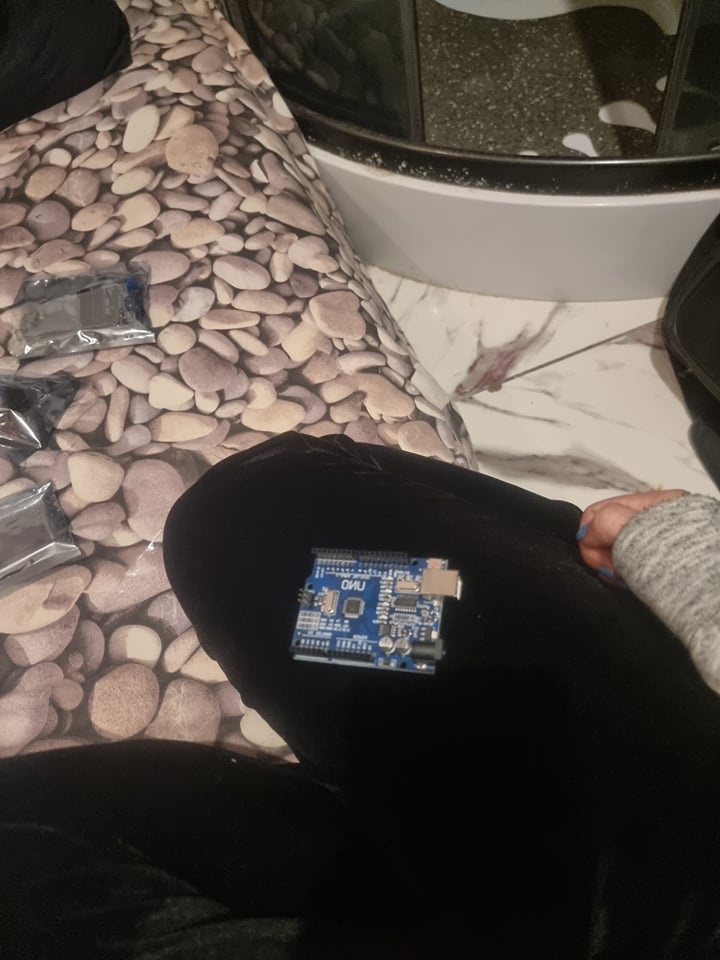UNO R3: (287, 544, 463, 678)
